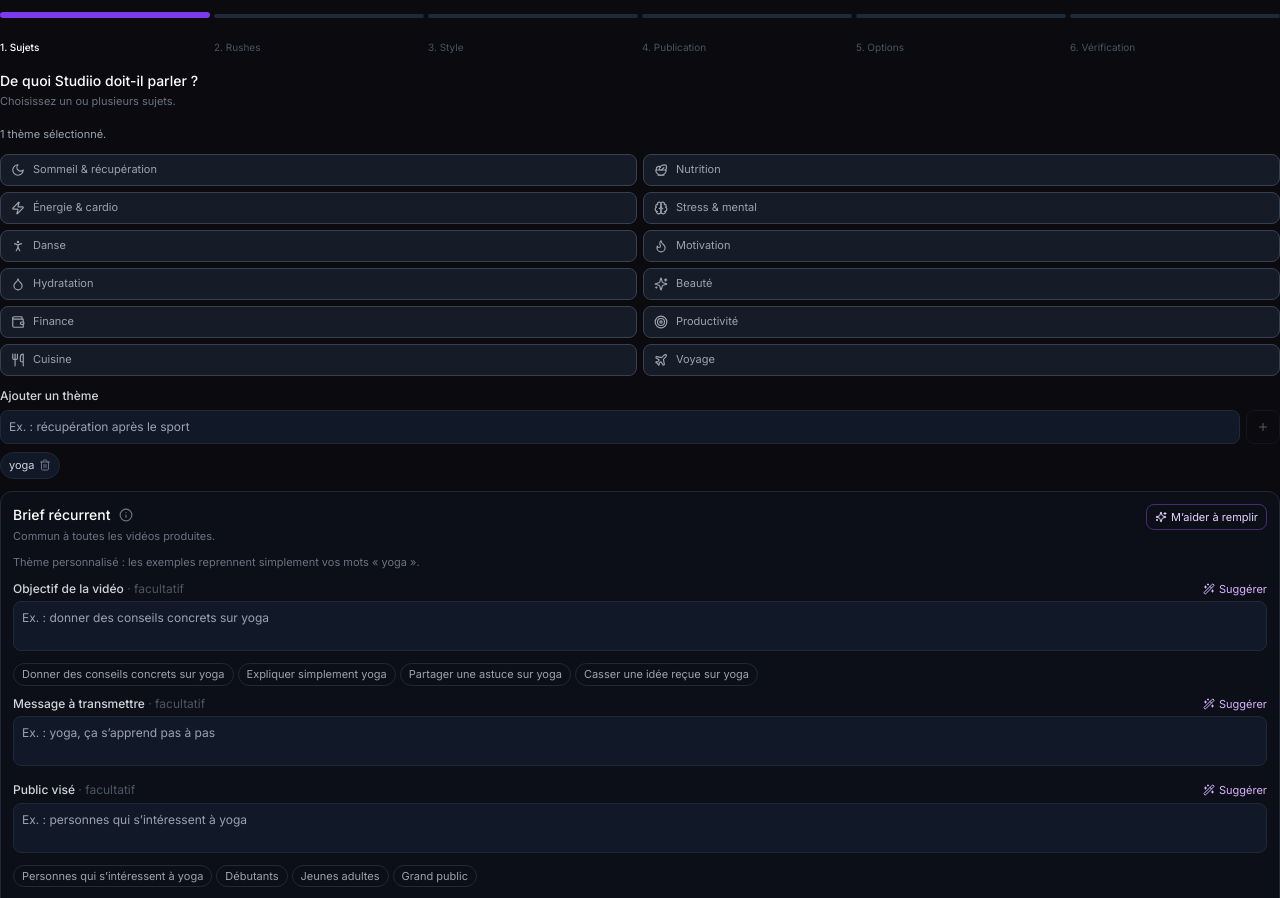
Scenario: Aucun fournisseur à l’écran, quelle que soit la combinaison de sources › aucune source
What coordinates should you click on to do the following:
click the button named "Rushes"
I would click on:
 (319, 16)
Its box is x1=214 y1=14 x2=424 y2=18.
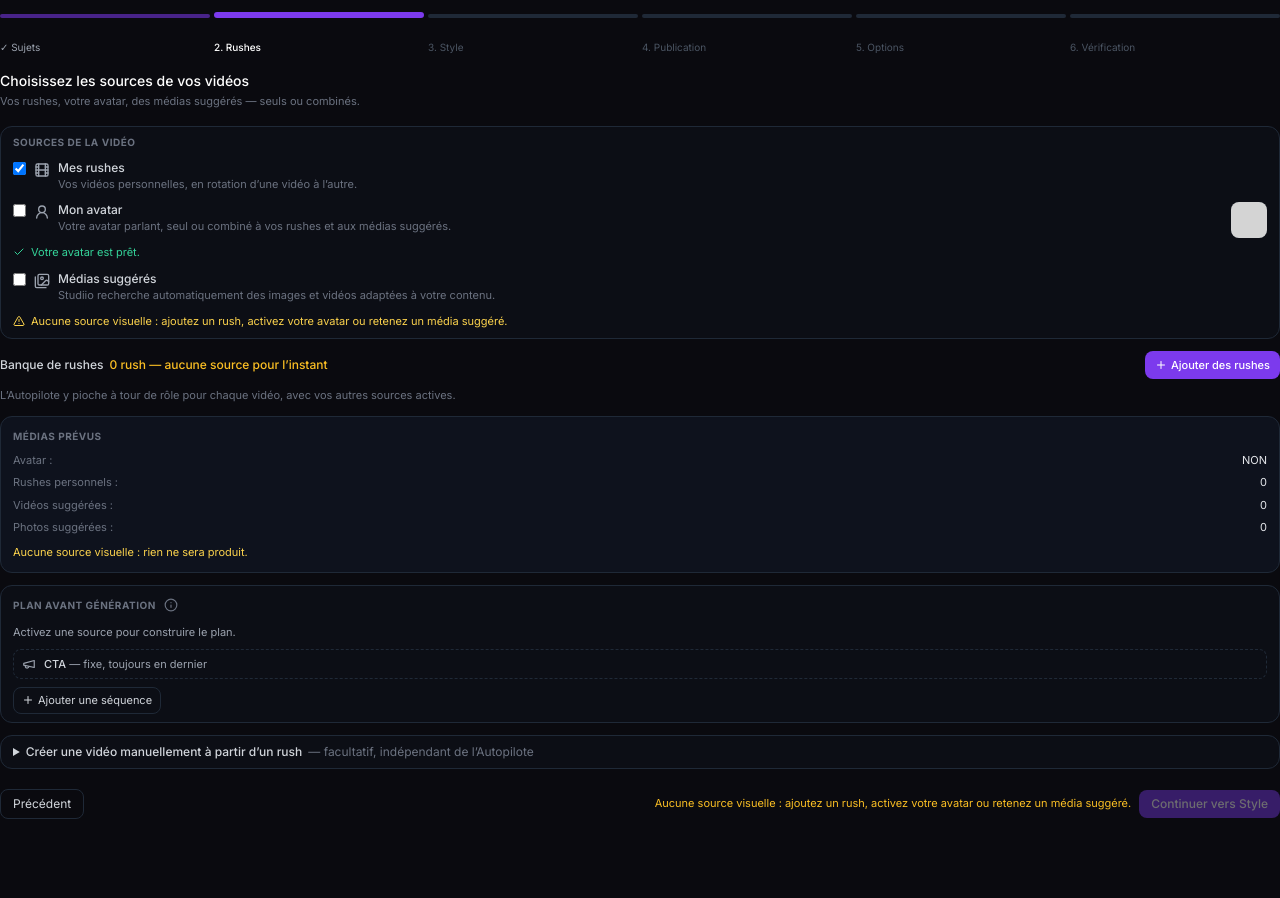
Result: the element that starts with "Sources de la vidéo" is shown at x1=0 y1=126 x2=1279 y2=338
Result: the element that starts with "Mon avatar" is shown at x1=13 y1=202 x2=1267 y2=260
Result: the element that starts with "Sources de la vidéo" shows "Mes rushes" at x1=58 y1=160 x2=125 y2=174
